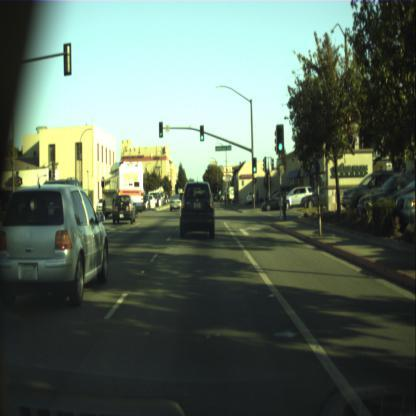Green: (276, 125, 284, 152), (200, 126, 204, 140), (252, 158, 256, 171)
GreenLeft: (158, 122, 162, 138)
